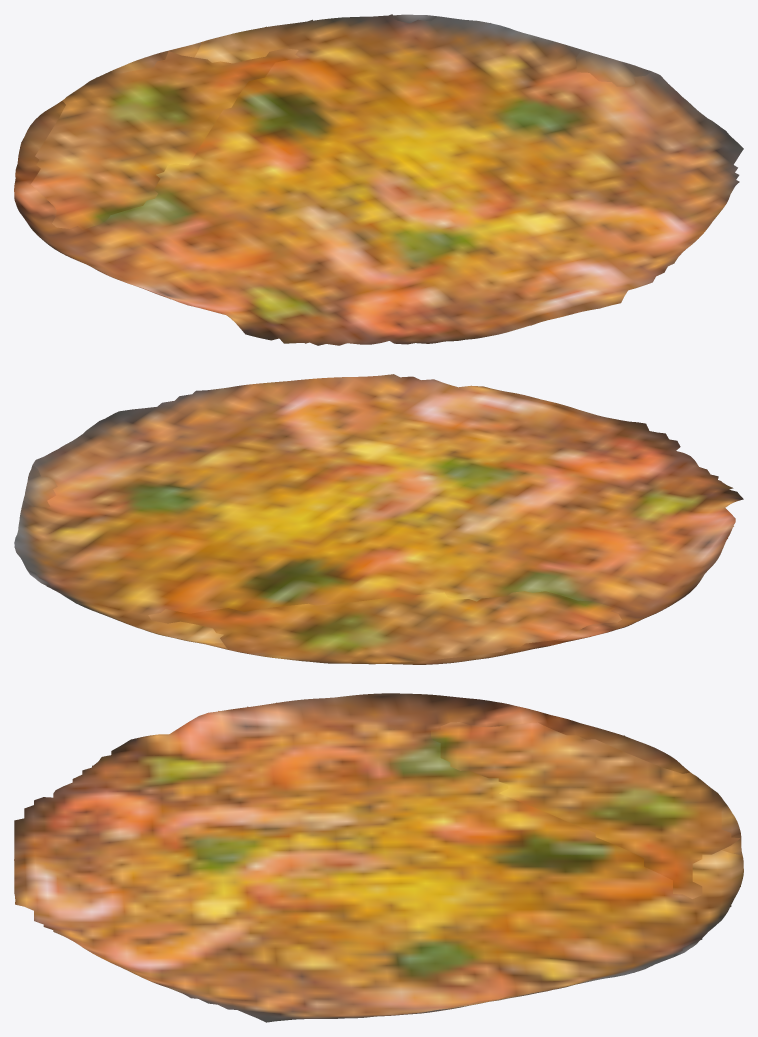
Rendered from paella-OPT.glb.
3 renders of one model, top to bottom at view 1: azimuth 30°, elevation 25°; view 2: azimuth 150°, elevation 25°; view 3: azimuth 270°, elevation 25°, orthographic. The views are drawn at different scales.
Visible parts, largest first — view 1: Object_2; view 2: Object_2; view 3: Object_2.
Boxes of the visible parts, x1,y1,x2,y2 form: Object_2: (14,14,743,345); Object_2: (14,374,743,664); Object_2: (14,693,743,1022).
Bounding box in the file's own units: 0.4646 × 0.0138 × 0.4522.
1 material, 1 textured.
